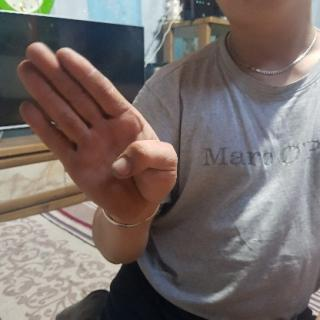KAAF: (13, 39, 187, 230)
